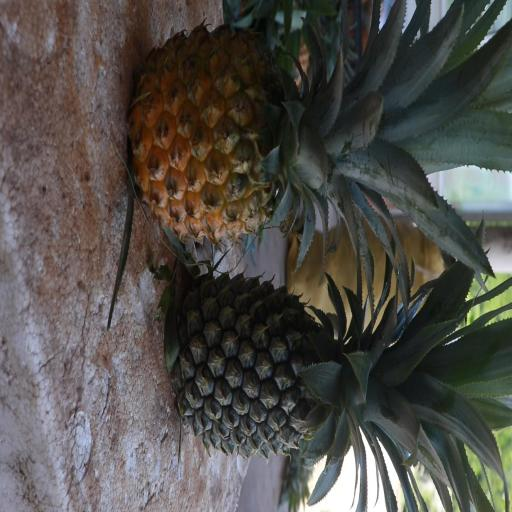Pineapple - v8 v1: (132, 34, 425, 242)
